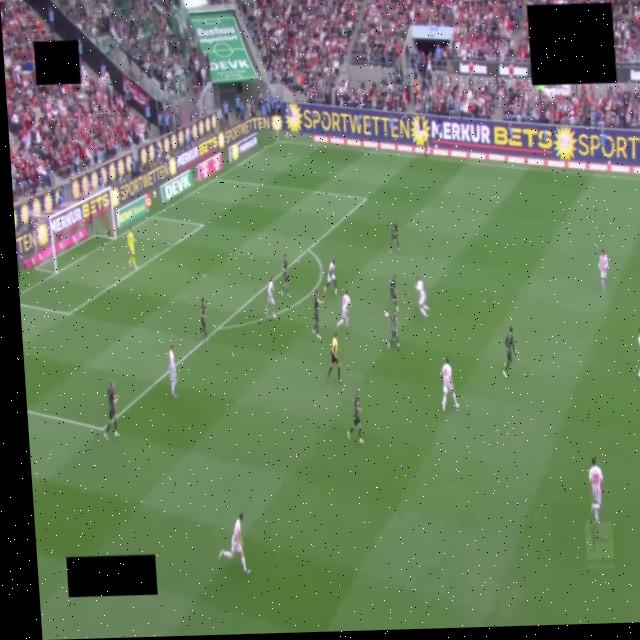ball: (385, 312, 388, 317)
player: (219, 514, 249, 574), (442, 357, 459, 411), (589, 458, 603, 522), (347, 389, 363, 444), (104, 381, 119, 439), (503, 327, 514, 377), (415, 276, 428, 317), (323, 260, 337, 296), (313, 289, 323, 338), (337, 290, 350, 327), (265, 278, 276, 318), (387, 312, 399, 348), (169, 346, 177, 397), (599, 250, 608, 291), (198, 299, 207, 339), (127, 229, 136, 269), (281, 254, 289, 295), (389, 220, 399, 252), (390, 275, 397, 311), (638, 328, 639, 347)
referee: (328, 333, 341, 382)
